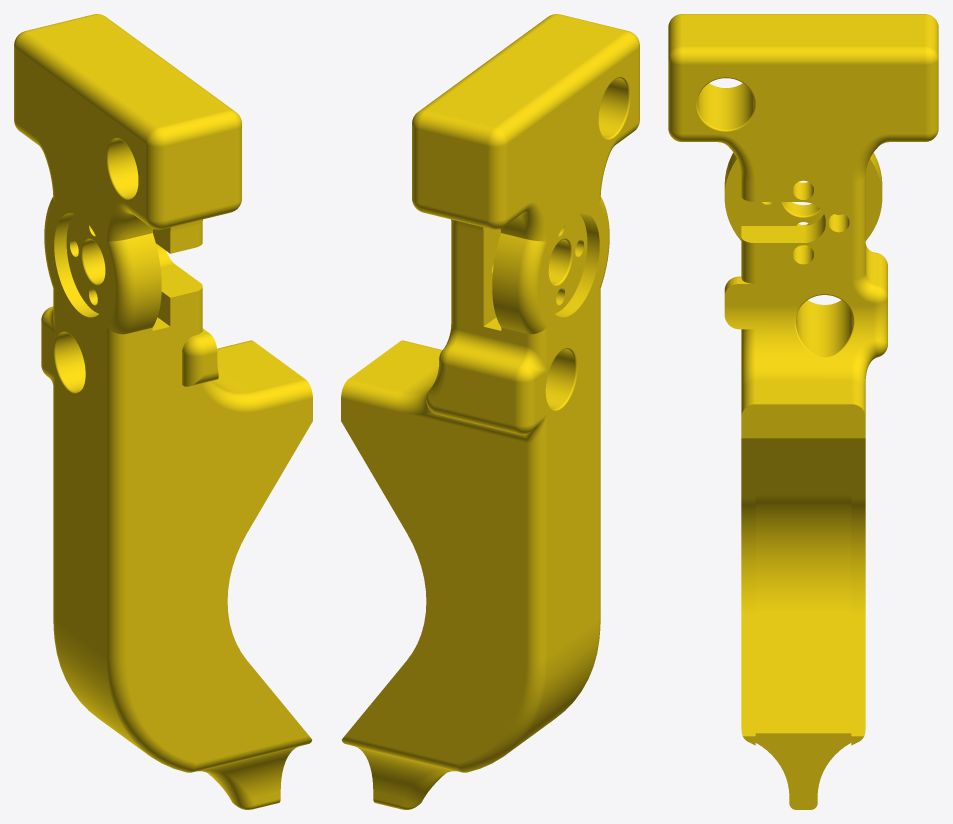
File: A26_H102_leftClaw.gltf
3 views of the same model, side by side, from view 1: azimuth 30°, elevation 25°; view 2: azimuth 150°, elevation 25°; view 3: azimuth 270°, elevation 25° (orthographic). The views are drawn at different scales.
Visible parts, largest first — view 1: mesh130, mesh93, mesh44, mesh15, mesh38, mesh42, mesh108, mesh10, mesh123, mesh136, mesh19, mesh14 (+22 smaller); view 2: mesh116, mesh93, mesh44, mesh50, mesh89, mesh42, mesh65, mesh78, mesh108, mesh11, mesh123, mesh122 (+26 smaller); view 3: mesh155, mesh141, mesh142, mesh44, mesh107, mesh138, mesh45, mesh111, mesh144, mesh9, mesh112, mesh135 (+16 smaller).
Boxes of the visible parts, left/top/right/bottom form: mesh130: left=127, top=292, right=312, bottom=762; mesh93: left=16, top=49, right=145, bottom=656; mesh44: left=29, top=15, right=226, bottom=126; mesh15: left=106, top=327, right=127, bottom=660; mesh38: left=166, top=129, right=234, bottom=219; mesh42: left=16, top=32, right=158, bottom=143; mesh108: left=217, top=341, right=304, bottom=391; mesh10: left=127, top=233, right=161, bottom=333; mesh123: left=56, top=643, right=148, bottom=755; mesh136: left=199, top=746, right=297, bottom=798; mesh19: left=108, top=681, right=196, bottom=772; mesh14: left=107, top=239, right=136, bottom=334; mesh116: left=341, top=398, right=526, bottom=762; mesh93: left=508, top=49, right=637, bottom=656; mesh44: left=427, top=15, right=624, bottom=126; mesh50: left=419, top=129, right=487, bottom=219; mesh89: left=526, top=415, right=547, bottom=660; mesh42: left=495, top=32, right=637, bottom=143; mesh65: left=458, top=227, right=526, bottom=346; mesh78: left=434, top=365, right=514, bottom=424; mesh108: left=349, top=341, right=440, bottom=391; mesh11: left=492, top=233, right=526, bottom=333; mesh123: left=505, top=643, right=597, bottom=755; mesh122: left=356, top=746, right=454, bottom=798; mesh155: left=682, top=65, right=924, bottom=305; mesh141: left=755, top=614, right=851, bottom=733; mesh142: left=755, top=495, right=851, bottom=613; mesh44: left=682, top=15, right=924, bottom=46; mesh107: left=724, top=305, right=873, bottom=380; mesh138: left=755, top=445, right=851, bottom=494; mesh45: left=682, top=46, right=924, bottom=64; mesh111: left=741, top=404, right=865, bottom=438; mesh144: left=755, top=733, right=851, bottom=809; mesh9: left=724, top=159, right=882, bottom=240; mesh112: left=796, top=300, right=852, bottom=357; mesh135: left=741, top=438, right=865, bottom=497.
Size of the model in its own units: 0.0483 by 0.1773 by 0.061.
